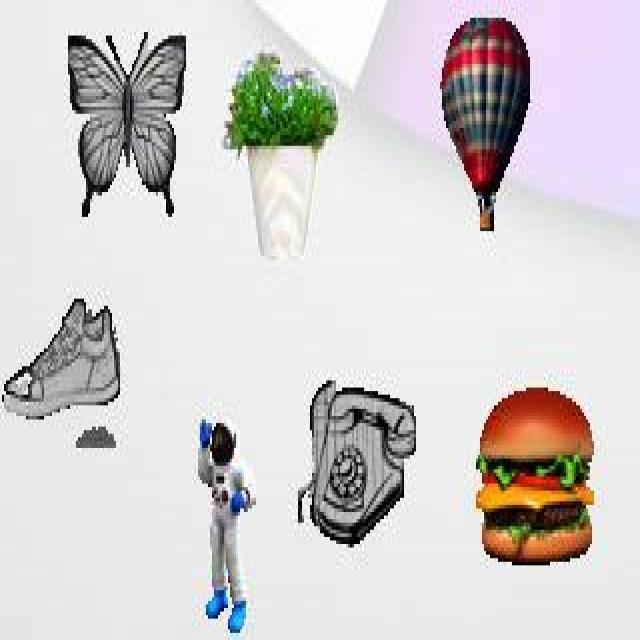Other Objects: (220, 51, 339, 266), (67, 31, 186, 218), (476, 384, 594, 568), (296, 378, 418, 550), (438, 15, 532, 232), (1, 298, 121, 452), (197, 410, 257, 634)
